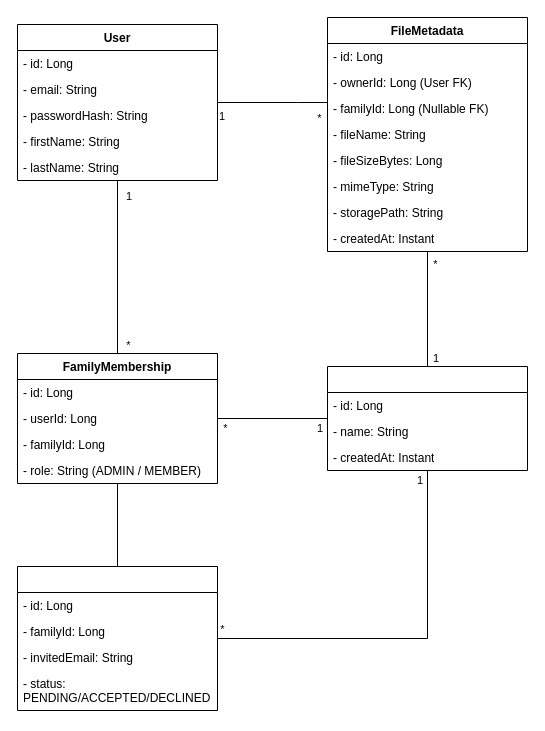
This 545x731 diagram has some shape labels left out. The shapes that lost their labels are listed below. From the top down, each one's box as (x1, y1, x2, y2) in pixels, then its label:
(326, 366, 528, 470): Family
(16, 566, 218, 710): FamilyInvitation
